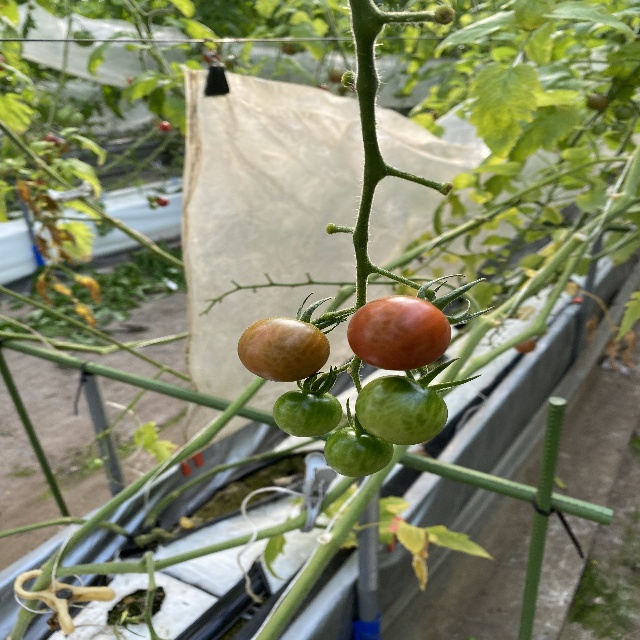l_fully_ripened: (347, 296, 451, 370)
l_green: (356, 375, 449, 445), (324, 427, 394, 478), (274, 389, 343, 437)
l_half_ripened: (238, 317, 331, 383)
